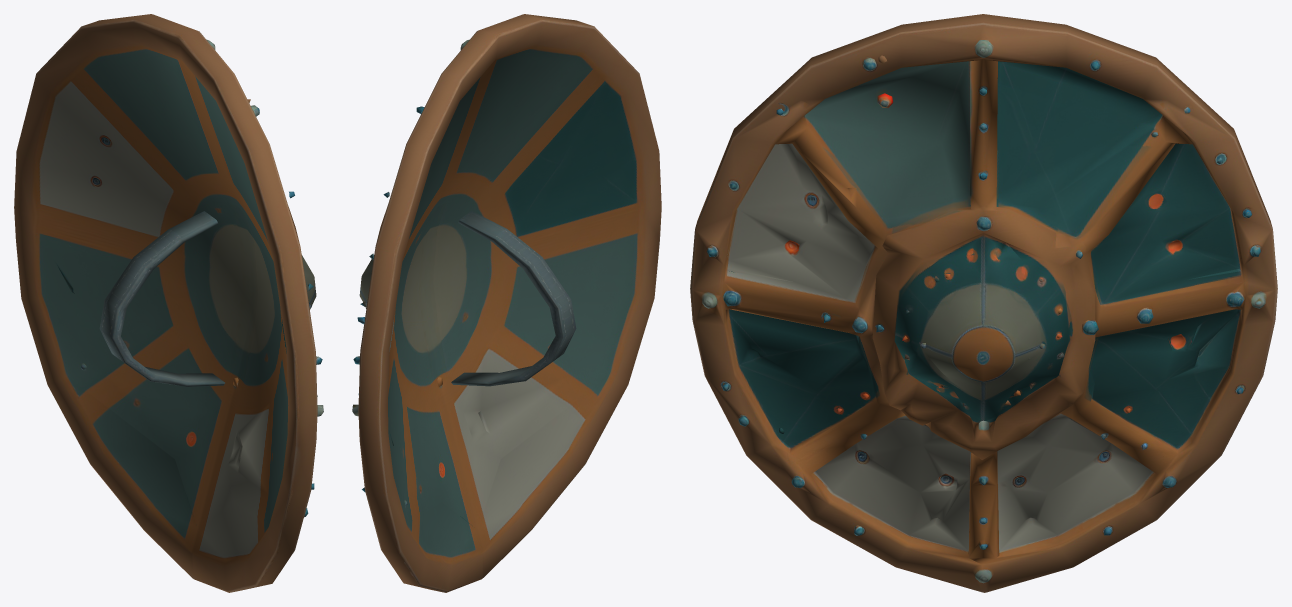
The model's file is boarhide_buckler.glb.
3 renders of one model, left to right at view 1: azimuth 30°, elevation 25°; view 2: azimuth 150°, elevation 25°; view 3: azimuth 270°, elevation 25°, orthographic. The views are drawn at different scales.
Visible parts, largest first — view 1: base_model_path; view 2: base_model_path; view 3: base_model_path.
Boxes of the visible parts, box(x1,y1,x2,y2) form: base_model_path: box(14, 14, 323, 592); base_model_path: box(352, 14, 661, 592); base_model_path: box(690, 14, 1277, 592).
Size of the model in its own units: 0.3798 by 1 by 0.9455.
1 material, 1 textured.
